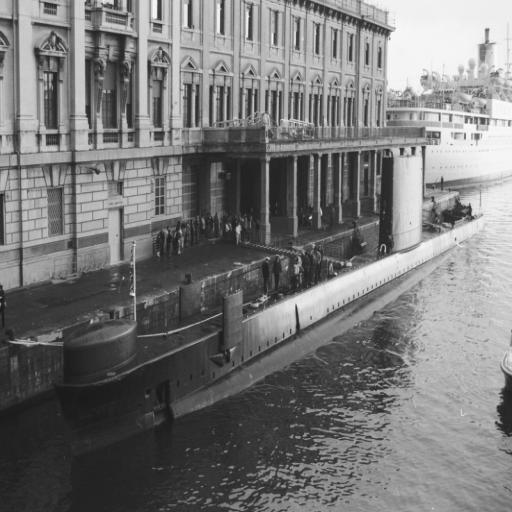submarine: (54, 146, 486, 465)
